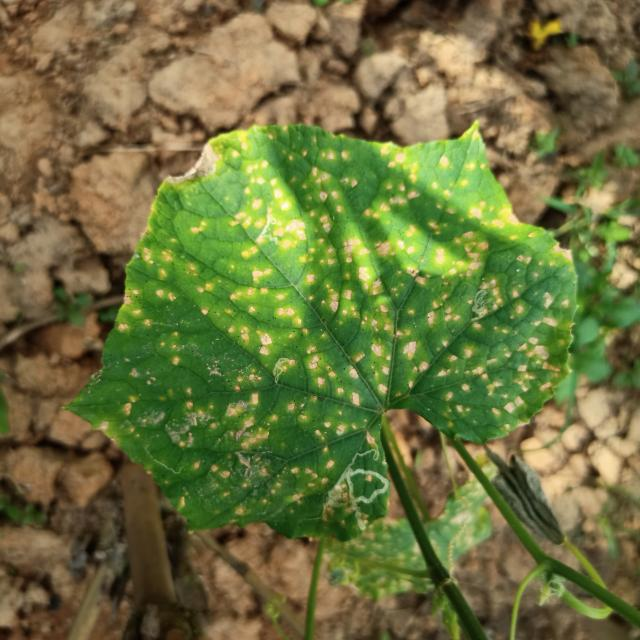disease_cucumber: (125, 148, 551, 494)
